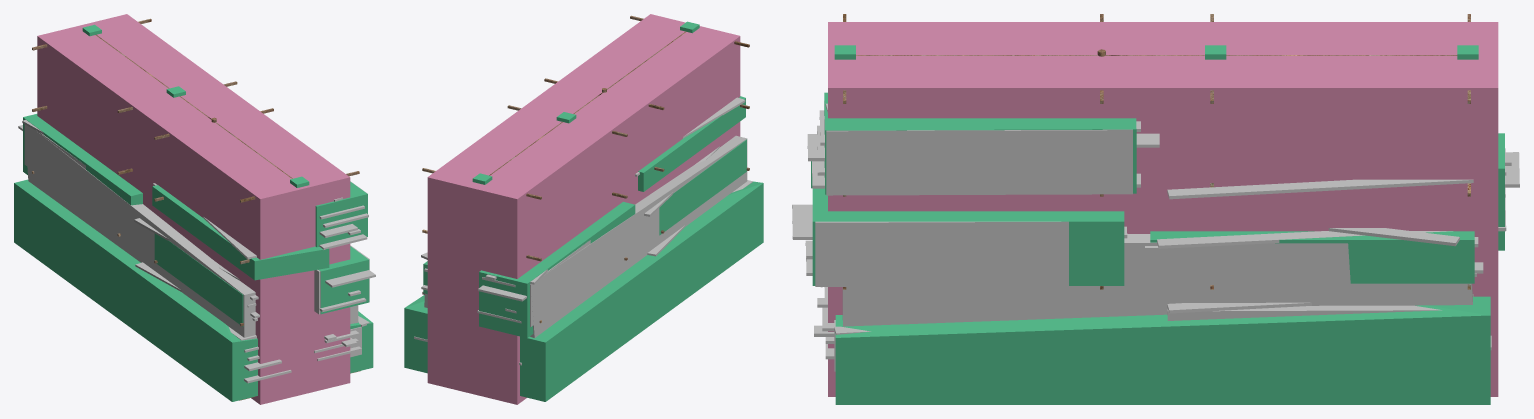
File: ind_obj_02_a.dae
3 renders of one model, left to right at view 1: azimuth 30°, elevation 25°; view 2: azimuth 150°, elevation 25°; view 3: azimuth 270°, elevation 25°, orthographic. The views are drawn at different scales.
Parts seen in each view (by area): view 1: Untitled, Colmesh-1, tree_oak_bush_a20, tree_oak_bush_a300, tree_oak_bush_a100; view 2: Untitled, Colmesh-1, tree_oak_bush_a20, tree_oak_bush_a300, tree_oak_bush_a100; view 3: Untitled, Colmesh-1, tree_oak_bush_a100, tree_oak_bush_a20, tree_oak_bush_a300.
Boxes of the visible parts, x1,y1,x2,y2 form: Untitled: (37, 14, 350, 404); Colmesh-1: (14, 24, 373, 401); tree_oak_bush_a20: (24, 124, 358, 337); tree_oak_bush_a300: (18, 18, 375, 400); tree_oak_bush_a100: (24, 125, 369, 357); Untitled: (427, 14, 740, 404); Colmesh-1: (404, 21, 763, 401); tree_oak_bush_a20: (424, 135, 747, 338); tree_oak_bush_a300: (414, 15, 749, 365); tree_oak_bush_a100: (530, 97, 752, 326); Untitled: (828, 22, 1498, 396); Colmesh-1: (811, 45, 1504, 404); tree_oak_bush_a100: (815, 129, 1473, 371); tree_oak_bush_a20: (842, 234, 1472, 326); tree_oak_bush_a300: (792, 14, 1519, 359).
Size of the model in its own units: 2 by 5.94 by 2.87.
